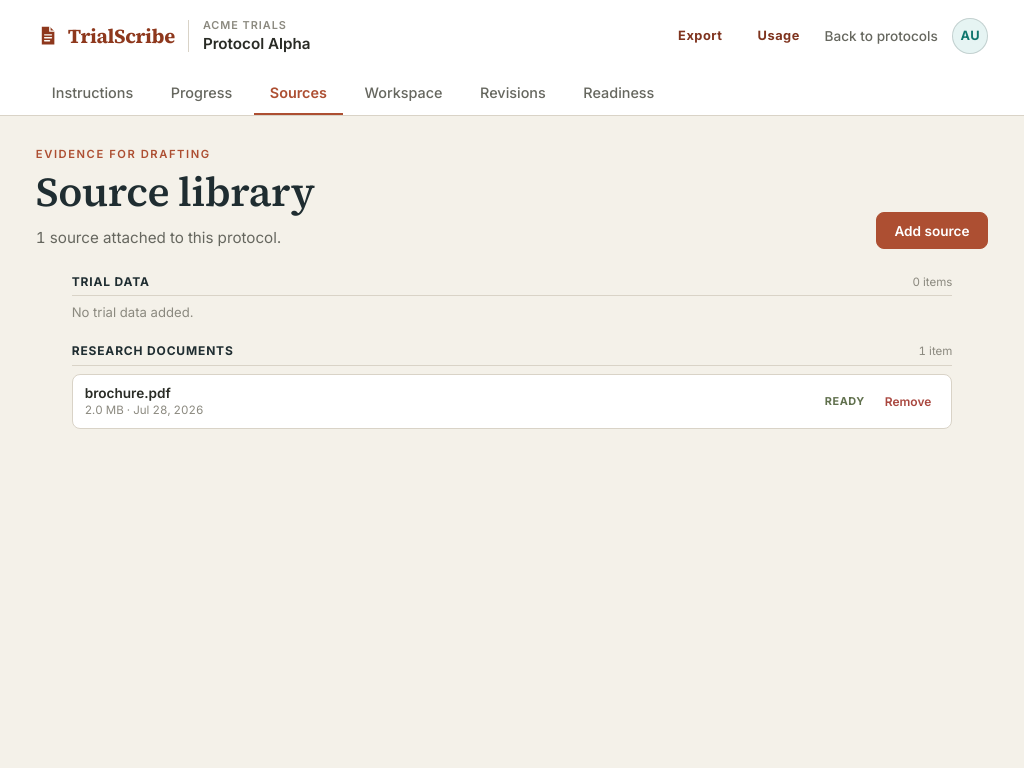
Scenario: SourceLibraryPage › keeps the source when the confirmation is cancelled
What coordinates should you click on to do the following:
click the button with aria-label "Remove brochure.pdf"
I would click on:
 (908, 401)
Its box is [877,388,939,414].
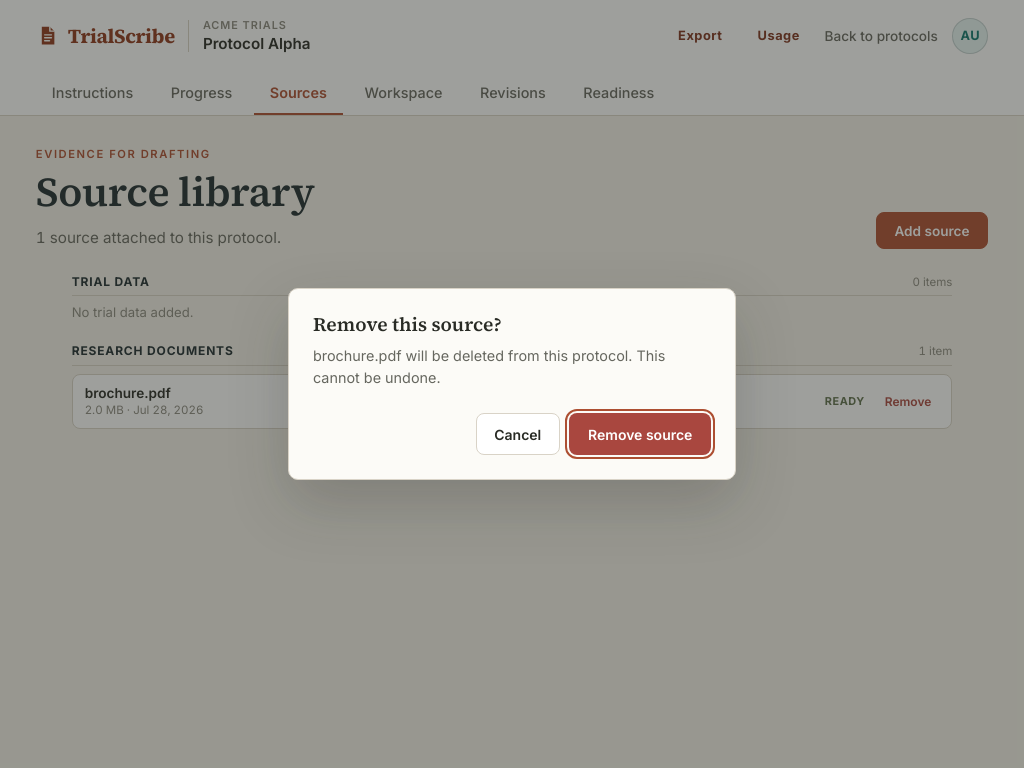
What coordinates should you click on to do the following:
click the button "Cancel"
I would click on:
 (518, 434)
Its box is [476,413,560,455].
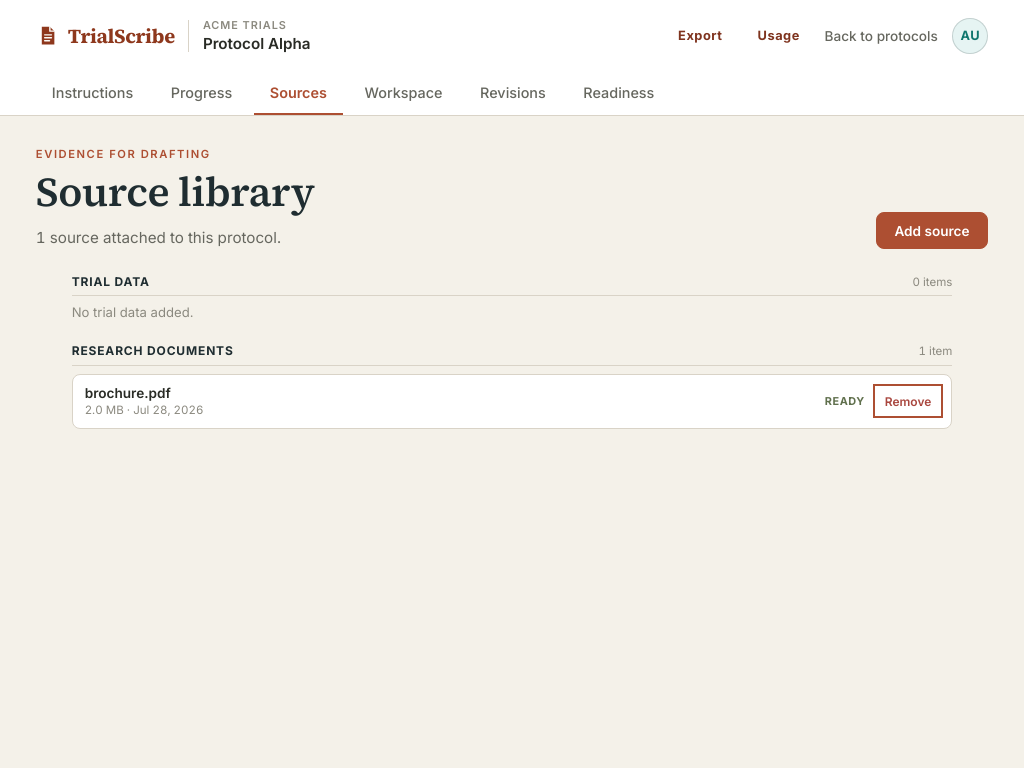
Expected: the text "brochure.pdf" is shown, [85,385,171,401]
Now the dialog is gone
